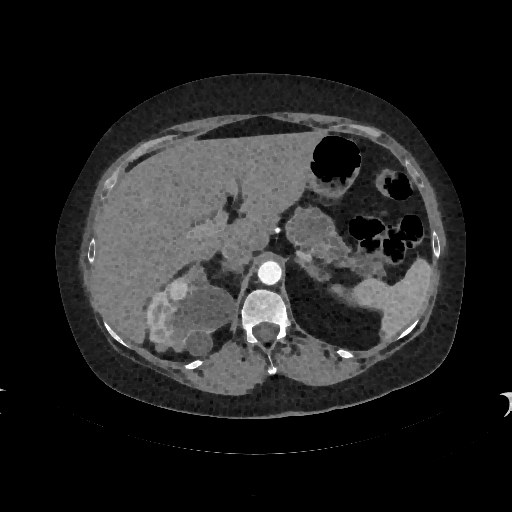Lesion: (164, 277, 190, 303)
